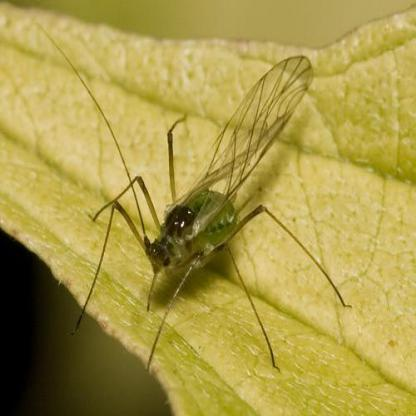aphid: (52, 39, 357, 366)
